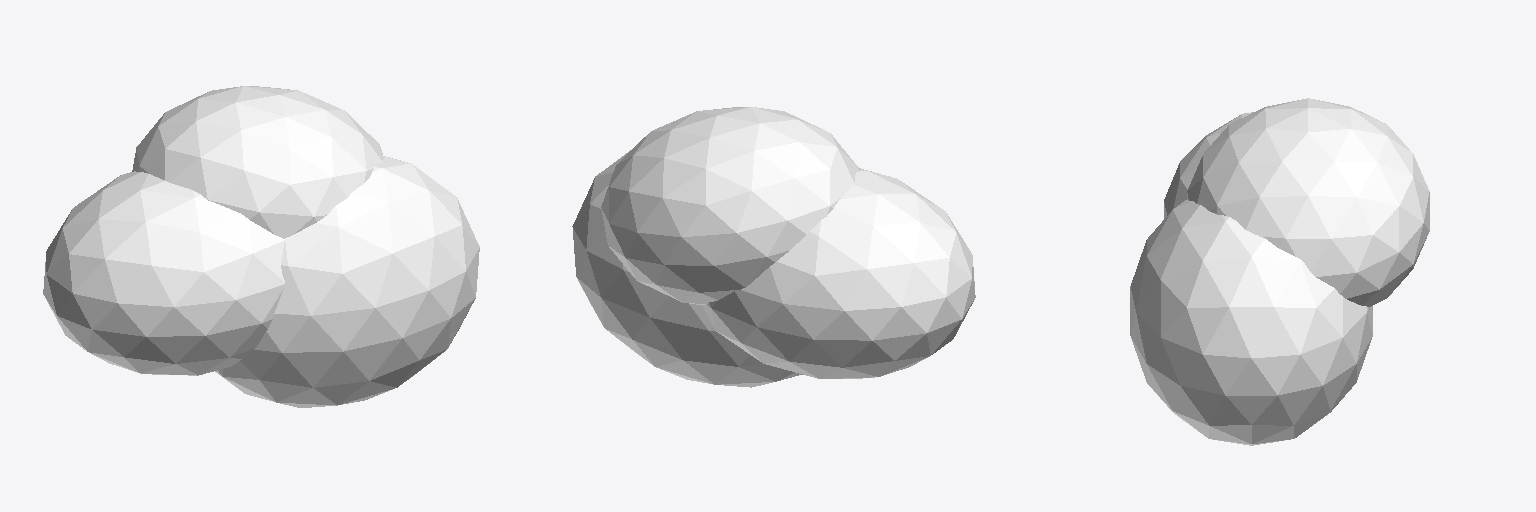
Rendered from cloud01.obj.
3 renders of one model, left to right at view 1: azimuth 30°, elevation 25°; view 2: azimuth 150°, elevation 25°; view 3: azimuth 270°, elevation 25°, orthographic.
Parts seen in each view (by area): view 1: Mesh51, Mesh52, Mesh53; view 2: Mesh52, Mesh53, Mesh51; view 3: Mesh51, Mesh53, Mesh52.
Part boxes in pixels (left/top/right/bottom): Mesh51: left=215, top=156, right=479, bottom=407; Mesh52: left=43, top=171, right=284, bottom=375; Mesh53: left=132, top=86, right=383, bottom=238; Mesh52: left=702, top=168, right=975, bottom=378; Mesh53: left=601, top=107, right=858, bottom=304; Mesh51: left=572, top=150, right=802, bottom=387; Mesh51: left=1130, top=200, right=1372, bottom=445; Mesh53: left=1187, top=98, right=1429, bottom=306; Mesh52: left=1164, top=112, right=1253, bottom=218.
Bounding box in the file's own units: 102 × 71.78 × 67.27.